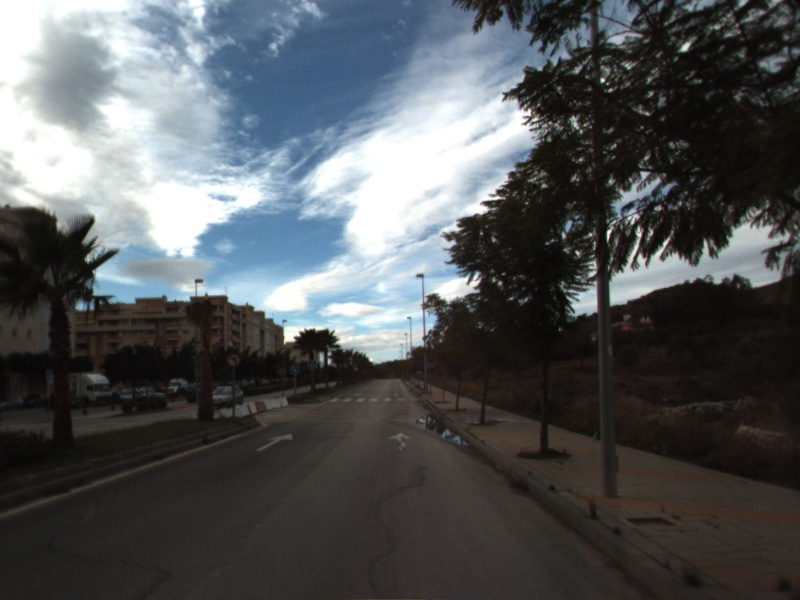STRAIGHT: (254, 431, 295, 453), (387, 430, 414, 454)
